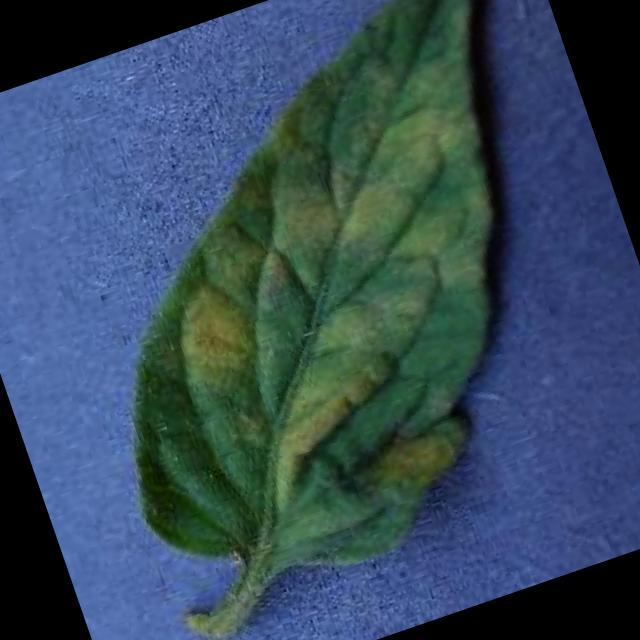Tomato mold leaf: (1, 0, 640, 633)
